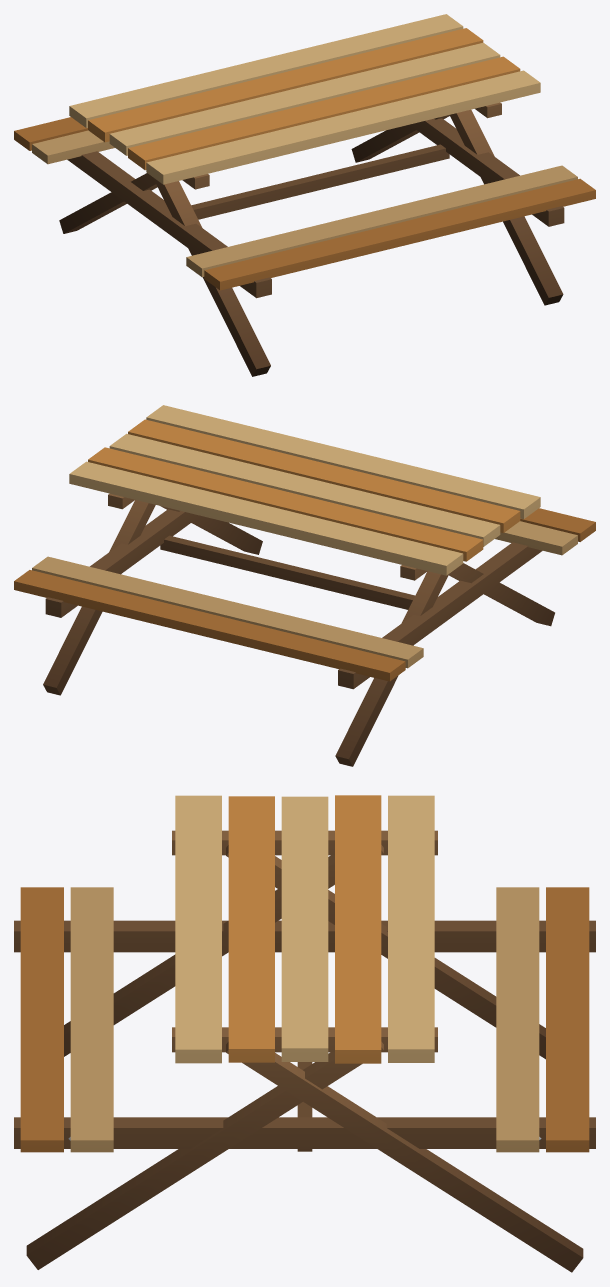
File: Picnic_Table.fbx
The picture shows the model from 3 angles, top to bottom: view 1: azimuth 30°, elevation 25°; view 2: azimuth 150°, elevation 25°; view 3: azimuth 270°, elevation 25°; orthographic projection. The views are drawn at different scales.
Parts seen in each view (by area): view 1: Picnic_Table_LOD0; view 2: Picnic_Table_LOD0; view 3: Picnic_Table_LOD0.
Part boxes in pixels (<box>): Picnic_Table_LOD0: <box>14,14,595,376</box>; Picnic_Table_LOD0: <box>14,405,595,766</box>; Picnic_Table_LOD0: <box>14,795,595,1272</box>.
Size of what is drawn, in the model's own units: 1.81 by 0.8021 by 1.75.
Materials: 1 (1 with a texture image).
